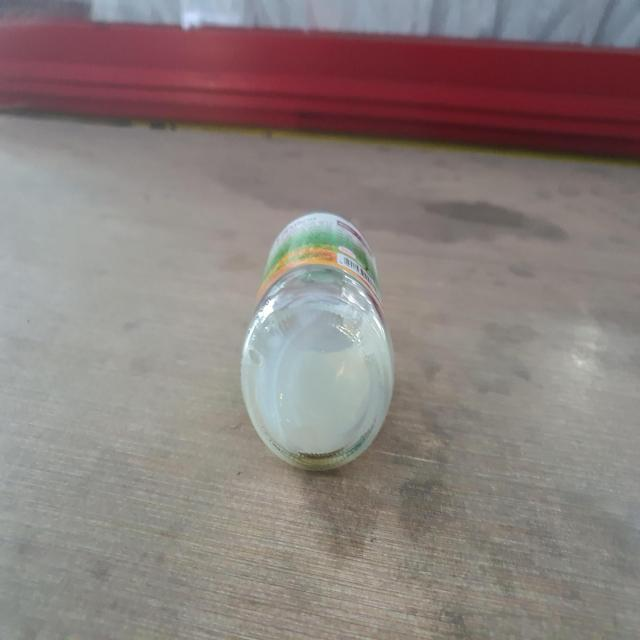glass: (241, 212, 394, 470)
